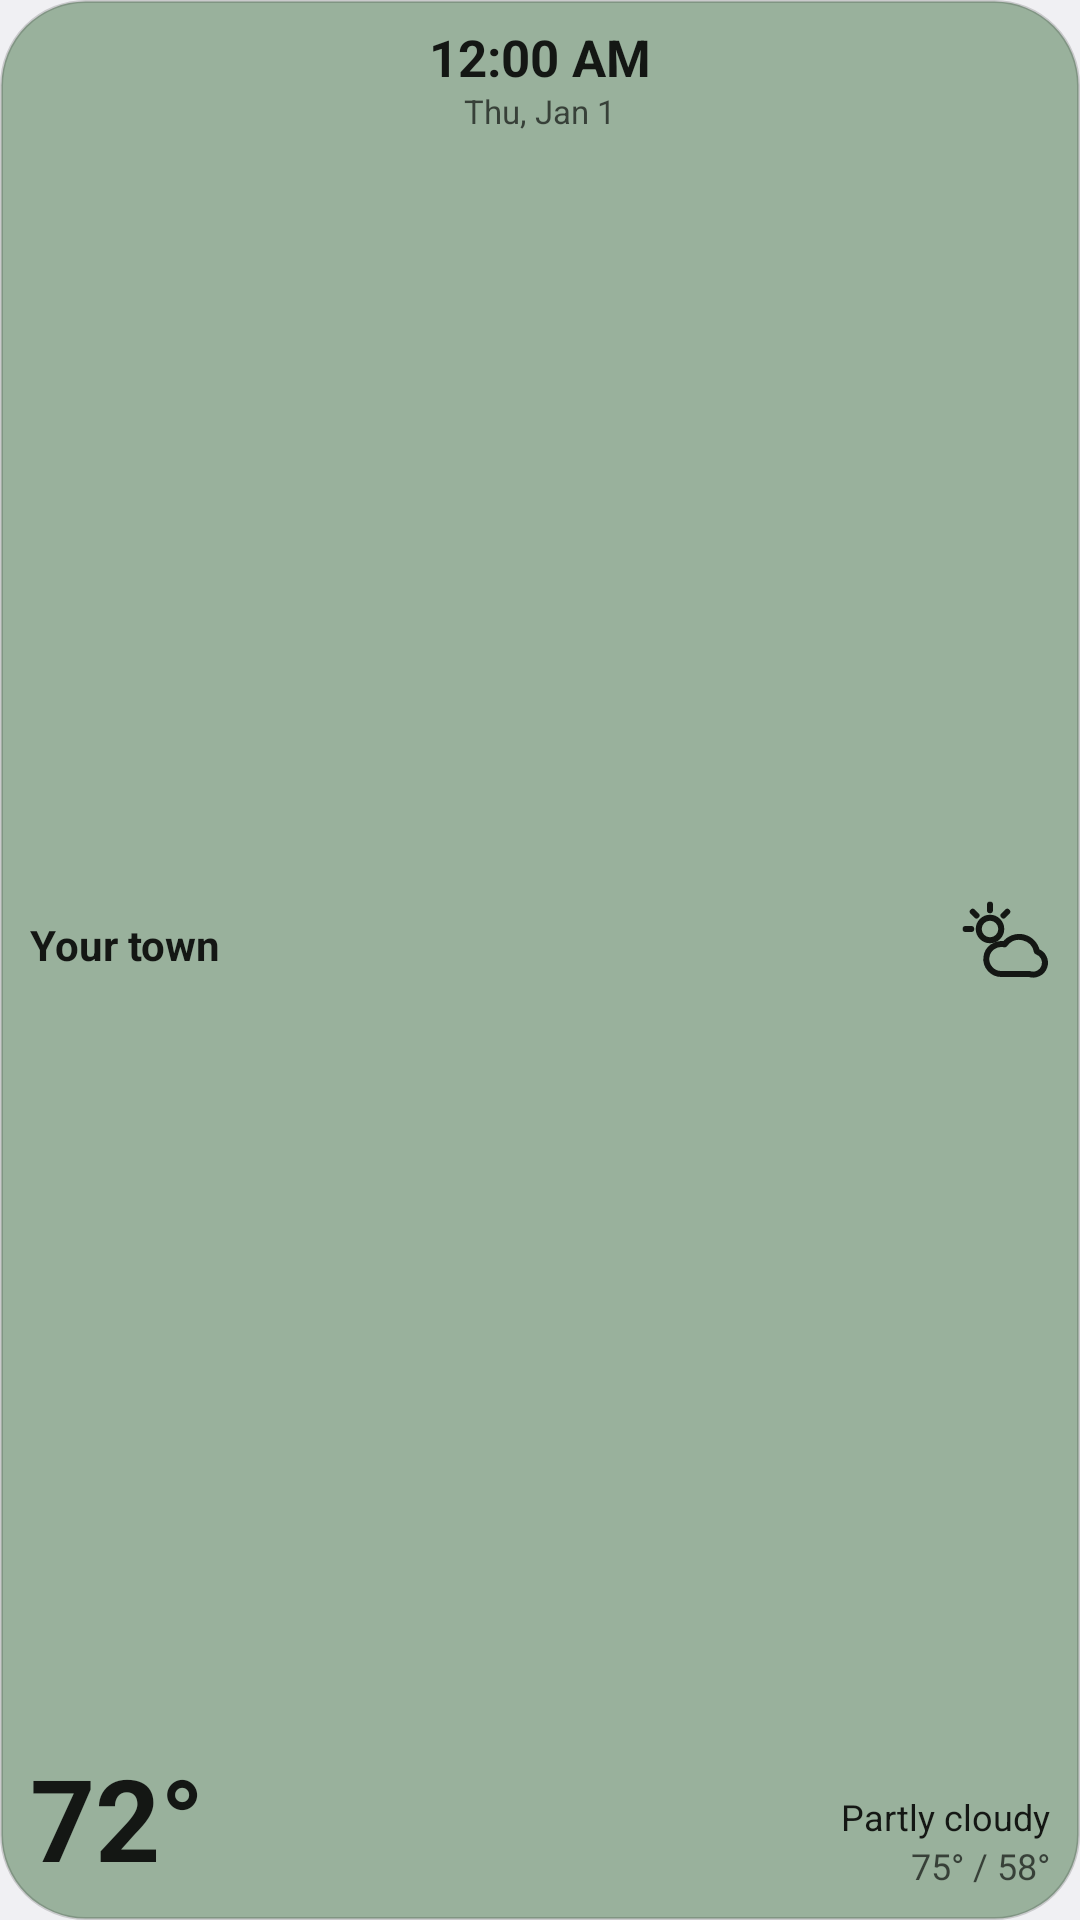

Screen size 1080*1920. Icon name, then its box in pixels as {"x1": x1, "y1": y1, "x2": x2, "y2": y2}:
partly: {"x1": 962, "y1": 901, "x2": 1048, "y2": 978}
